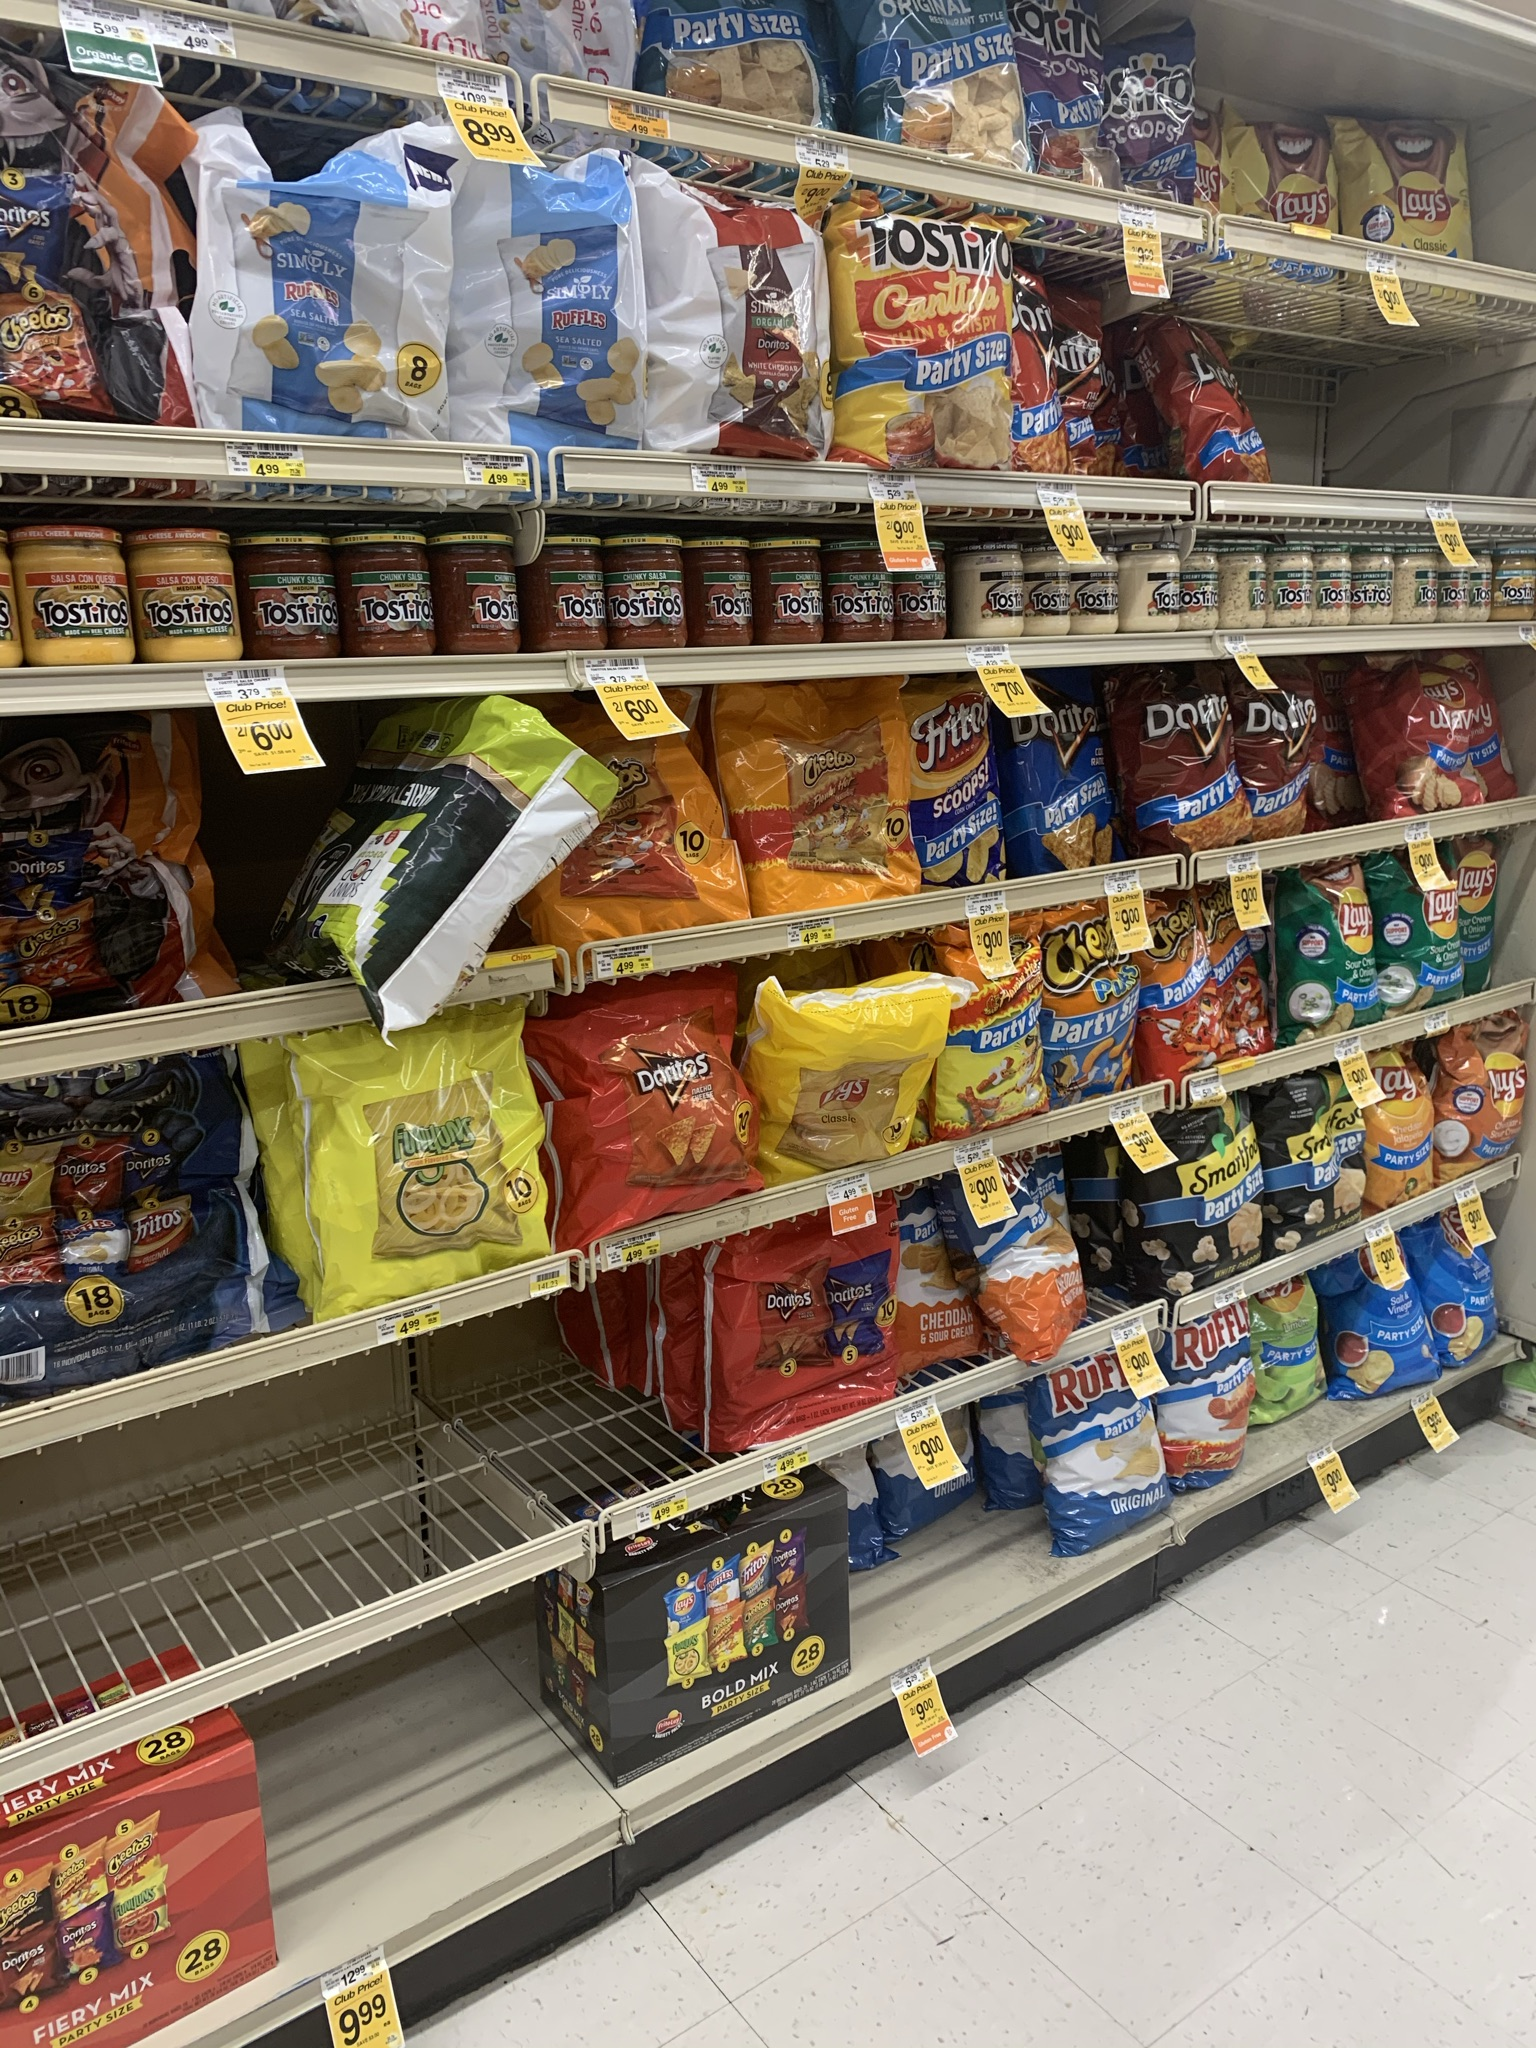chip: (836, 200, 1021, 476), (578, 1008, 745, 1230), (926, 922, 1049, 1130), (891, 687, 1007, 897), (1117, 669, 1246, 855), (1042, 1343, 1171, 1527), (1033, 919, 1150, 1105), (1013, 8, 1126, 200), (1384, 661, 1528, 810), (1275, 860, 1386, 1040), (1167, 1317, 1263, 1493), (1428, 1021, 1528, 1176), (1342, 1050, 1439, 1206), (1438, 835, 1518, 992)
